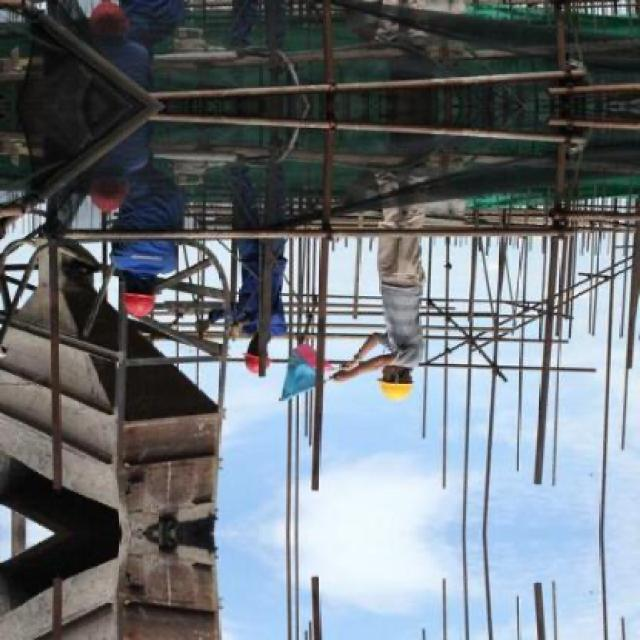con casco: (90, 259, 151, 329), (347, 356, 424, 410), (243, 342, 286, 396)
